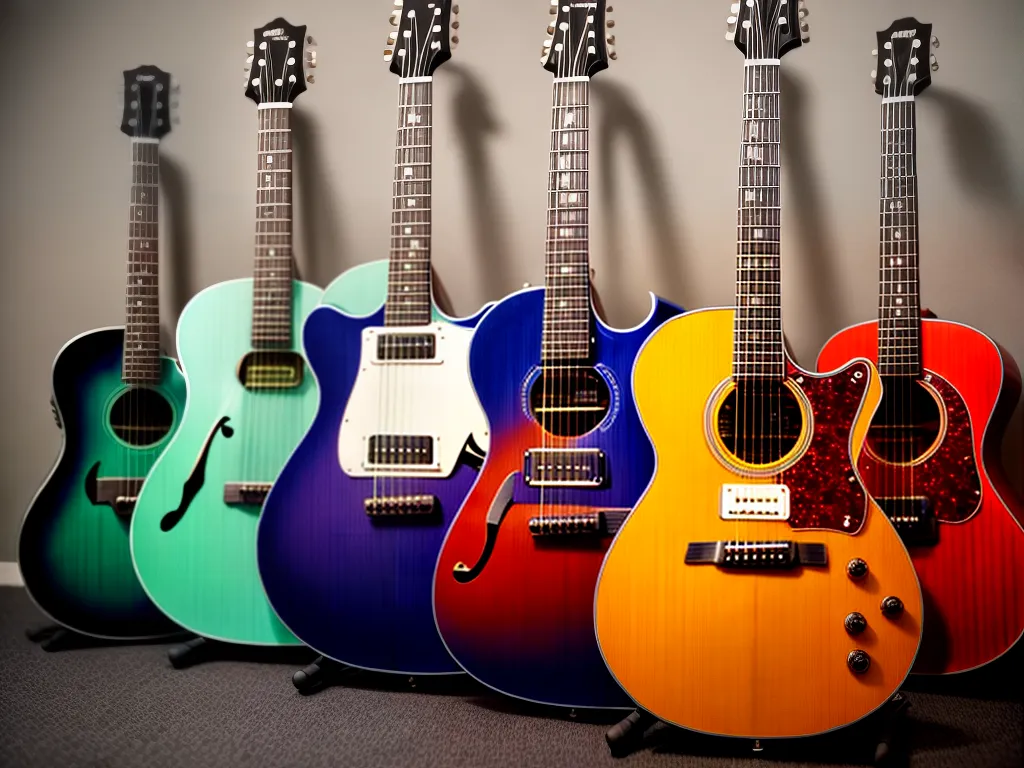guitar: (418, 0, 1000, 748), (594, 0, 990, 755), (253, 0, 496, 690), (433, 0, 662, 726), (815, 14, 1023, 688), (130, 21, 323, 654), (17, 66, 196, 653), (334, 0, 495, 512)
